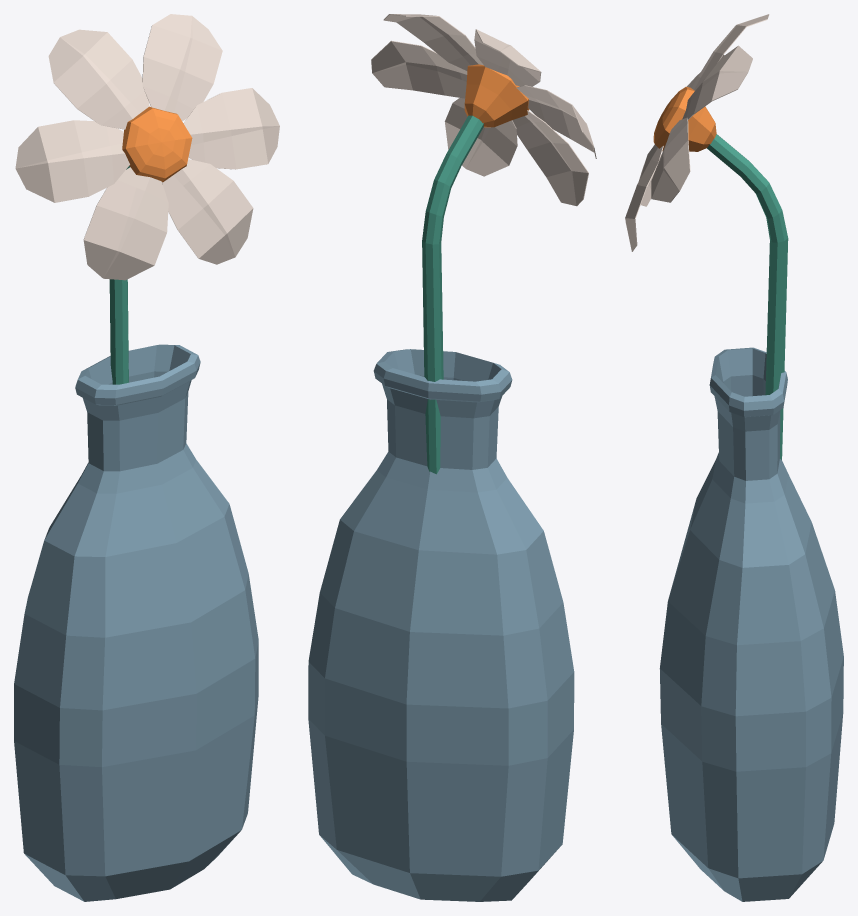
Rendered from Flower_51.fbx.
3 renders of one model, left to right at view 1: azimuth 30°, elevation 25°; view 2: azimuth 150°, elevation 25°; view 3: azimuth 270°, elevation 25°, orthographic. The views are drawn at different scales.
Visible parts, largest first — view 1: Flower_51; view 2: Flower_51; view 3: Flower_51.
Boxes of the visible parts, bbox=[...] form: Flower_51: bbox=[14, 14, 279, 901]; Flower_51: bbox=[308, 14, 596, 901]; Flower_51: bbox=[625, 14, 843, 901].
Bounding box in the file's own units: 20.96 × 16.33 × 67.87.
